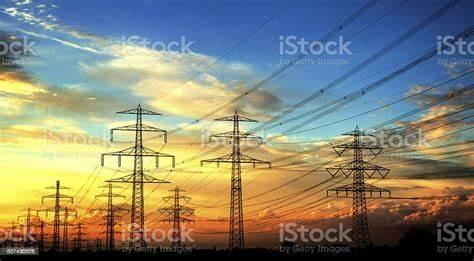power_tower: (200, 107, 272, 252), (103, 100, 168, 251), (323, 125, 392, 246), (37, 177, 78, 256), (92, 179, 131, 252), (159, 183, 195, 252)
